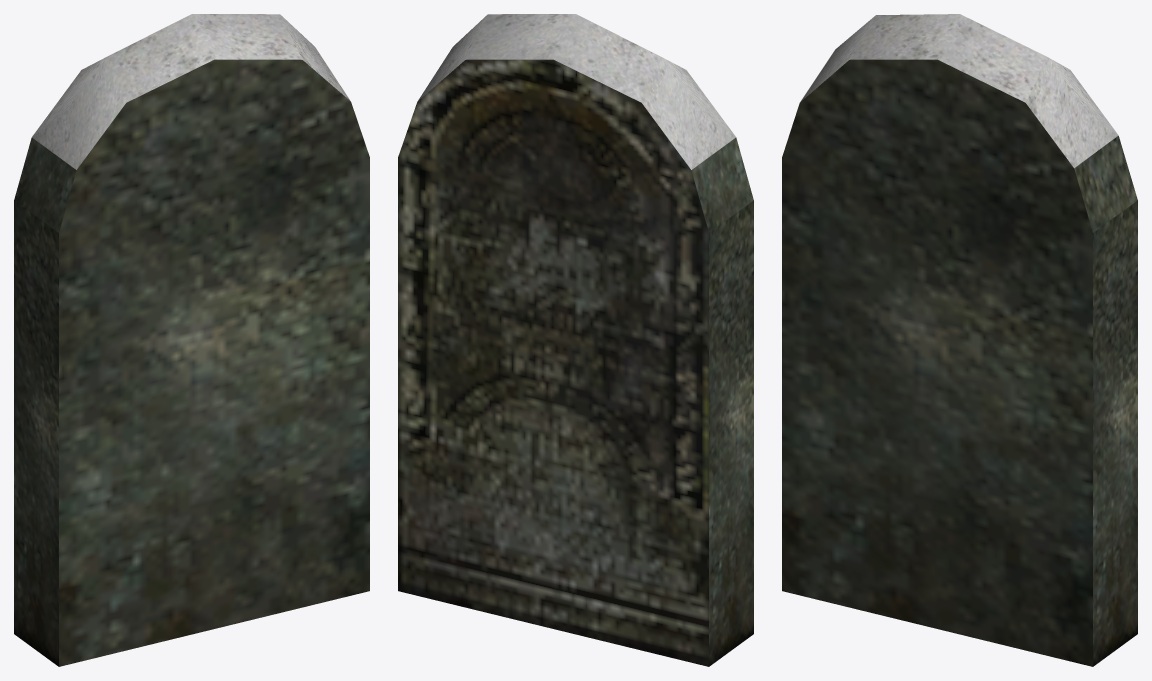
File: tombstone_sm_08_snow.fbx
The picture shows the model from 3 angles, left to right: view 1: azimuth 30°, elevation 25°; view 2: azimuth 150°, elevation 25°; view 3: azimuth 330°, elevation 25°; orthographic projection.
Parts seen in each view (by area): view 1: mesh_0, mesh_1; view 2: mesh_0, mesh_1; view 3: mesh_0, mesh_1.
Boxes of the visible parts, x1,y1,x2,y2 form: mesh_0: (14,59,369,666); mesh_1: (32,14,350,169); mesh_0: (398,59,753,666); mesh_1: (418,14,735,169); mesh_0: (782,59,1137,666); mesh_1: (800,14,1118,168).
Size of the model in its own units: 60 by 110 by 15.
2 materials, 2 textured.
